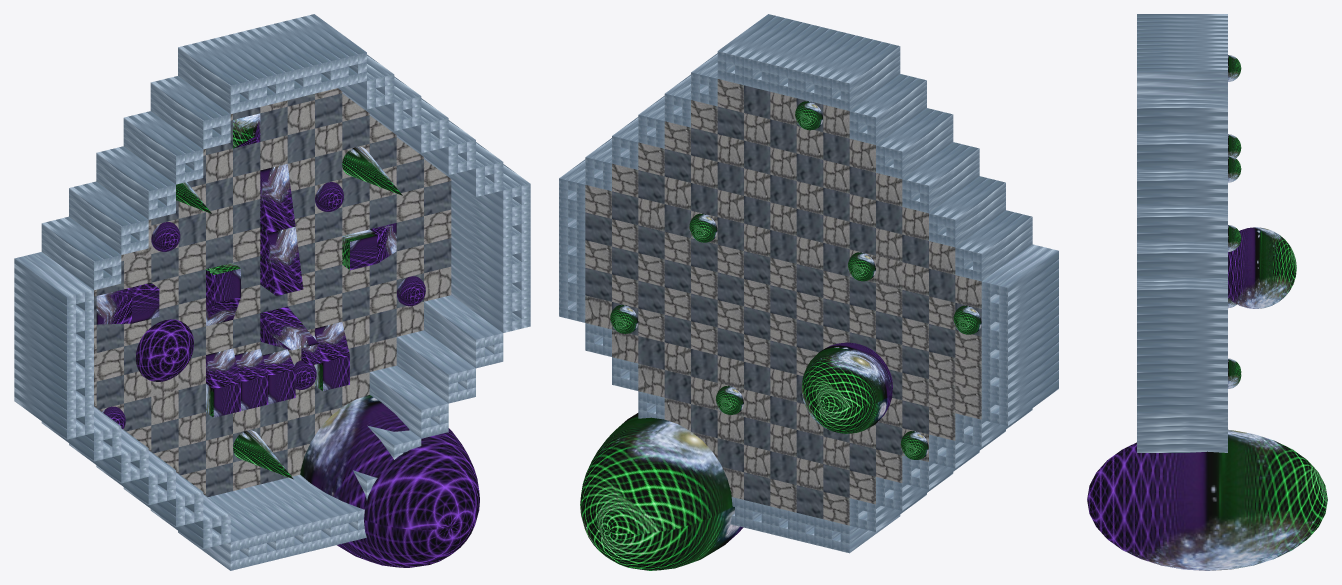
Rendered from dust3bhopv1.glb.
3 views of the same model, side by side, from view 1: azimuth 30°, elevation 25°; view 2: azimuth 150°, elevation 25°; view 3: azimuth 270°, elevation 25° (orthographic). The views are drawn at different scales.
Visible parts, largest first — view 1: Sphere.126, Sphere.119, Cube.7644, Cube.7651, Cube.7656, Cone.060, Cone.061, Cube.7655, Cube.7648, Cube.7652, Cube.7645, Cube.7106 (+94 smaller); view 2: Sphere.126, Sphere.119, Cube.7130, Cube.7146, Cube.7122, Cube.7138, Cube.7106, Cube.7114, Cube.7420, Cube.7575, Cube.7516, Cube.7581 (+147 smaller); view 3: Sphere.126, Sphere.119, Cube.7186, Cube.7194, Cube.7202, Cube.7210, Cube.7218, Cube.7226, Cube.7180, Cube.7174, Cube.7181, Cube.7187 (+55 smaller).
Part boxes in pixels (x1,y1,x2,y2): Sphere.126: [300, 395, 479, 567]; Sphere.119: [135, 319, 193, 381]; Cube.7644: [260, 164, 295, 233]; Cube.7651: [268, 226, 303, 295]; Cube.7656: [260, 306, 318, 350]; Cone.060: [233, 430, 293, 479]; Cone.061: [342, 146, 402, 195]; Cube.7655: [342, 229, 377, 270]; Cube.7648: [206, 263, 240, 303]; Cube.7652: [96, 289, 131, 324]; Cube.7645: [206, 348, 240, 388]; Cube.7106: [41, 221, 103, 270]; Sphere.126: [580, 413, 743, 570]; Sphere.119: [801, 342, 892, 433]; Cube.7130: [893, 112, 953, 160]; Cube.7146: [840, 44, 900, 92]; Cube.7122: [920, 146, 979, 194]; Cube.7138: [867, 78, 926, 126]; Cube.7106: [973, 214, 1032, 262]; Cube.7114: [946, 180, 1005, 228]; Cube.7420: [999, 248, 1058, 296]; Cube.7575: [796, 153, 823, 187]; Cube.7516: [796, 292, 823, 325]; Cube.7581: [796, 209, 823, 242]; Sphere.126: [1087, 429, 1327, 570]; Sphere.119: [1228, 227, 1296, 308]; Cube.7186: [1137, 104, 1227, 116]; Cube.7194: [1137, 140, 1227, 152]; Cube.7202: [1137, 176, 1227, 188]; Cube.7210: [1137, 213, 1227, 225]; Cube.7218: [1137, 249, 1227, 261]; Cube.7226: [1137, 285, 1227, 297]; Cube.7180: [1137, 68, 1227, 79]; Cube.7174: [1137, 88, 1227, 96]; Cube.7181: [1137, 80, 1227, 88]; Cube.7187: [1137, 116, 1227, 124].
Bounding box in the file's own units: 1020 × 1138 × 529.
Materials: 4 (4 with a texture image).
